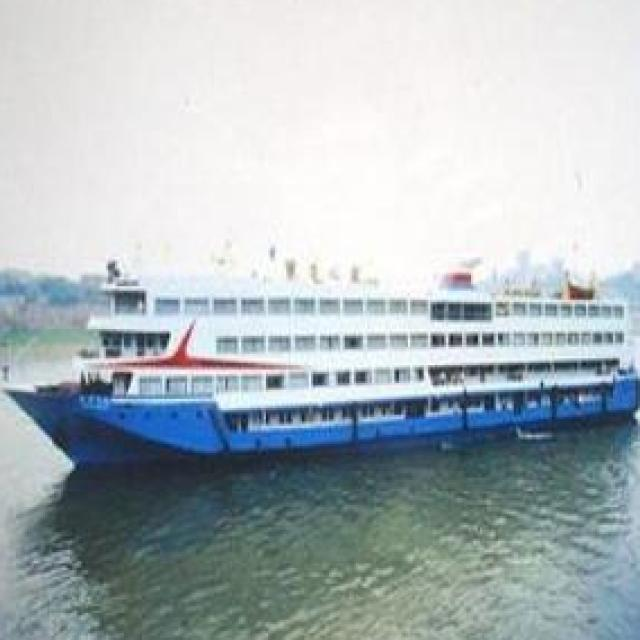passenger ship: (2, 252, 640, 460)
